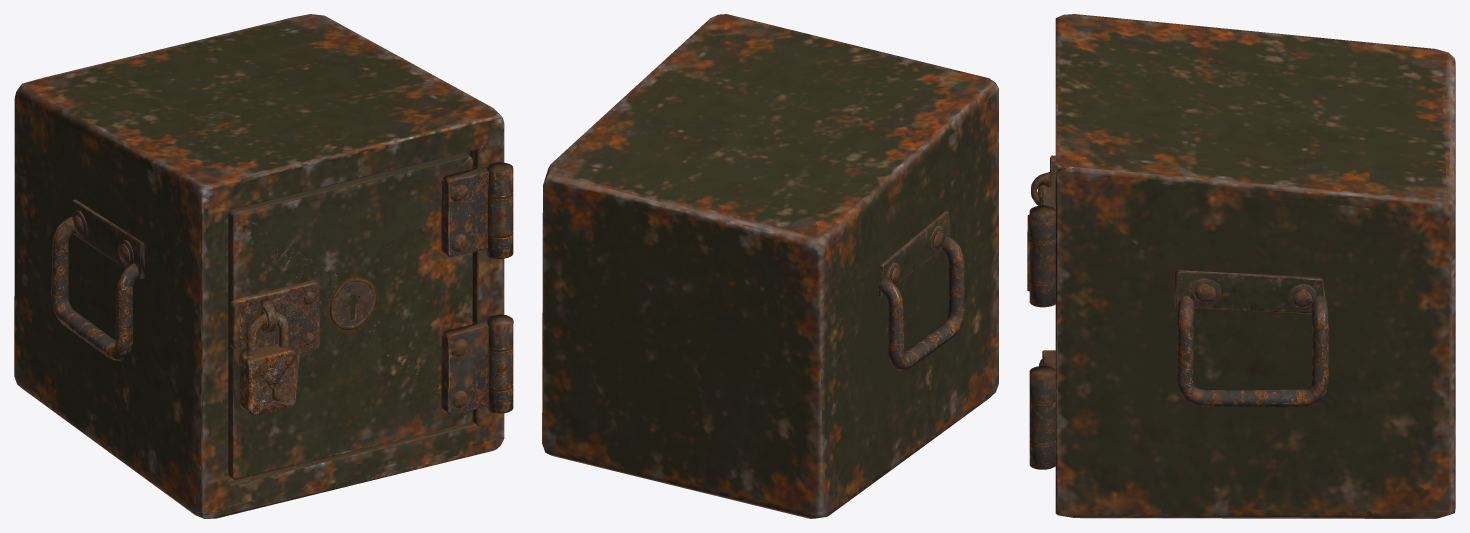
Rendered from safe_1.glb.
3 renders of one model, left to right at view 1: azimuth 30°, elevation 25°; view 2: azimuth 150°, elevation 25°; view 3: azimuth 270°, elevation 25°, orthographic. The views are drawn at different scales.
Bounding box in the file's own units: 0.9502 × 0.8662 × 0.9565.
1 material, 1 textured.
